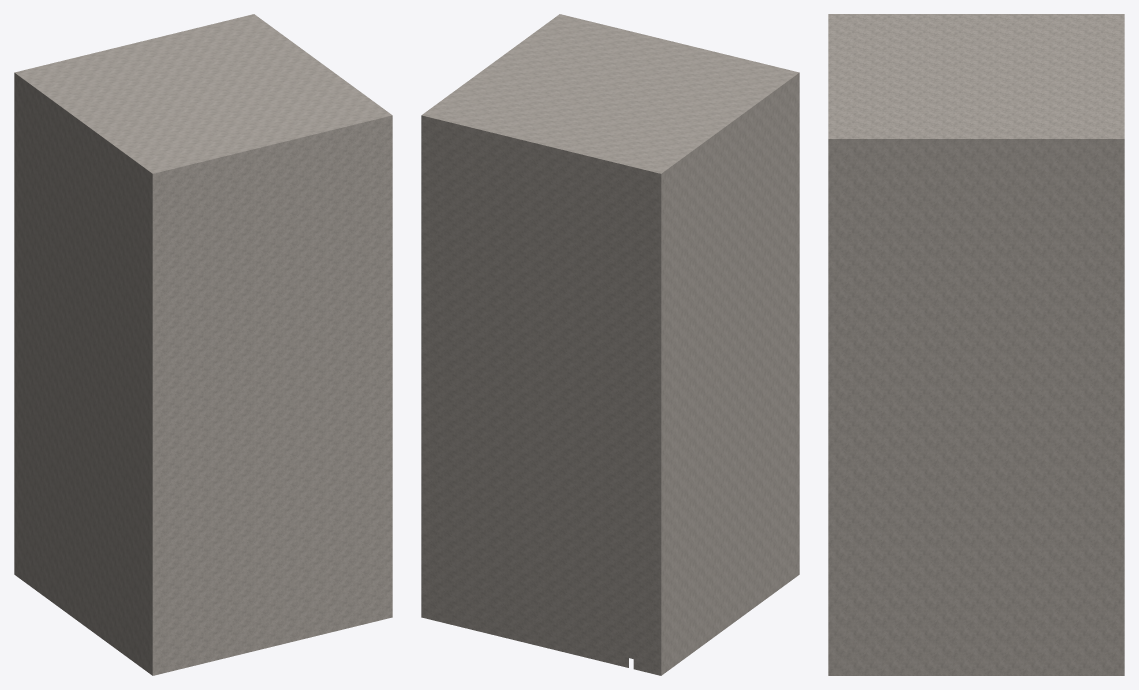
Rendered from edificio.fbx.
The picture shows the model from 3 angles, left to right: view 1: azimuth 30°, elevation 25°; view 2: azimuth 150°, elevation 25°; view 3: azimuth 270°, elevation 25°; orthographic projection. The views are drawn at different scales.
Parts seen in each view (by area): view 1: building; view 2: building; view 3: building.
Boxes of the visible parts, x1,y1,x2,y2 form: building: (14,14,392,675); building: (421,14,799,675); building: (828,14,1124,675).
Size of the model in its own units: 50 by 100 by 50.
